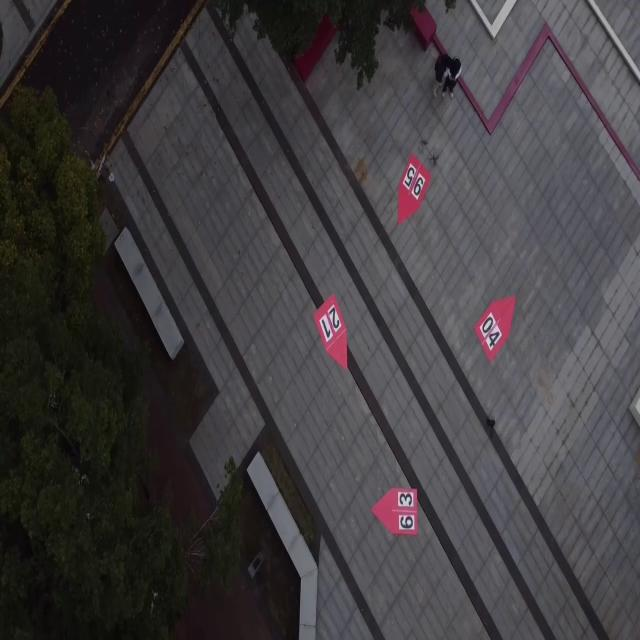-sign-: (312, 293, 348, 372), (474, 296, 515, 363), (371, 486, 418, 538), (398, 153, 431, 225)
